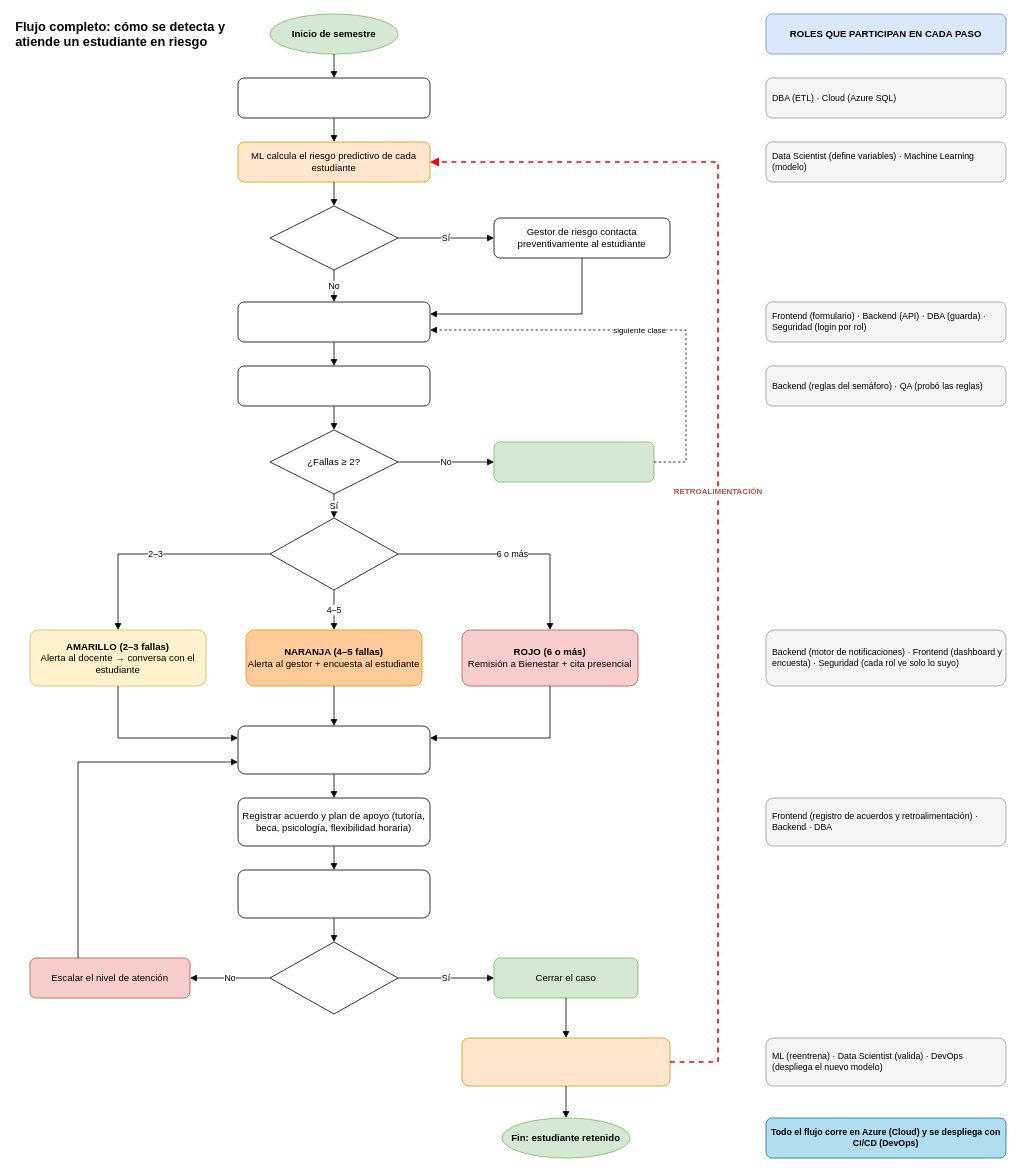
Image size: 1020x1172. Some labels were removed from this diagram. Each missing label, with the centre of its shape:
"Backend cuenta las fallas y aplica el semáforo" goes at pixel 333 385.
"DBA carga los datos de SICAU (ETL)" goes at pixel 333 97.
"Docente toma asistencia en el Frontend → Backend → BD" goes at pixel 333 321.
"Identificar la causa: académica, económica, personal o social" goes at pixel 333 749.
"Los resultados del caso reentrenan el modelo ML" goes at pixel 565 1061.
"Nivel del semáforo" goes at pixel 333 553.
"Seguimiento: registrar retroalimentación y monitorear asistencia" goes at pixel 333 893.
"VERDE (0–1) sin acción, sigue el monitoreo" goes at pixel 573 461.
"¿Mejoró la asistencia?" goes at pixel 333 977.
"¿Riesgo alto?" goes at pixel 333 237.
